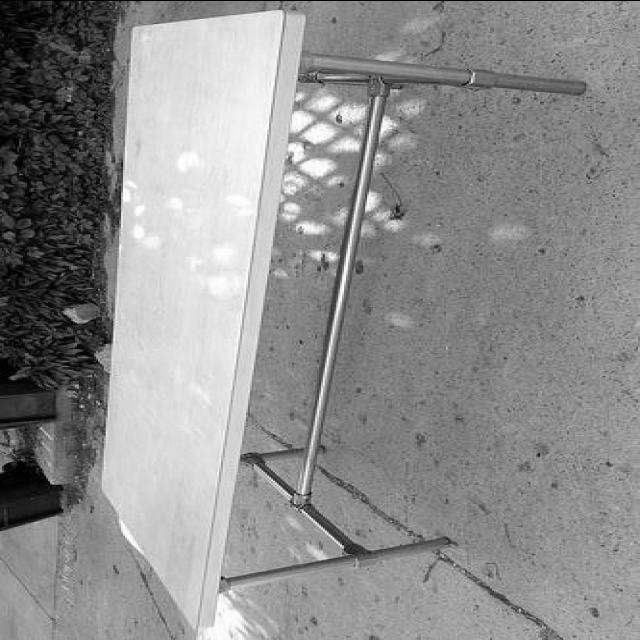table: (102, 11, 582, 628)
